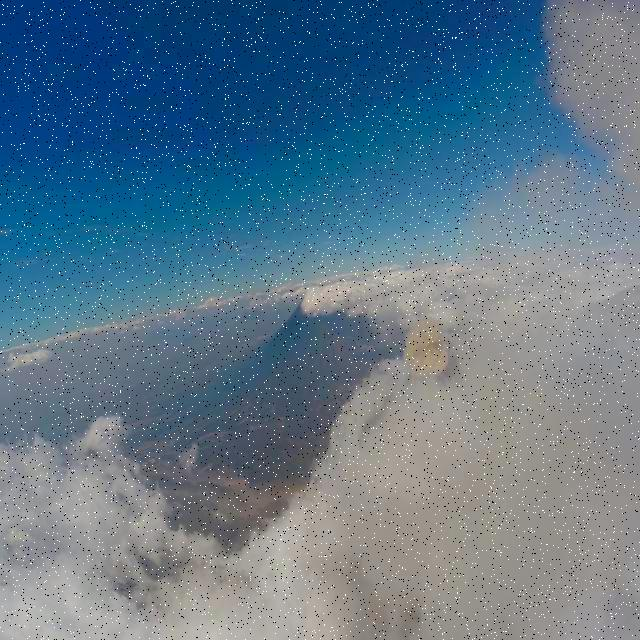Plume: (403, 318, 448, 384)
